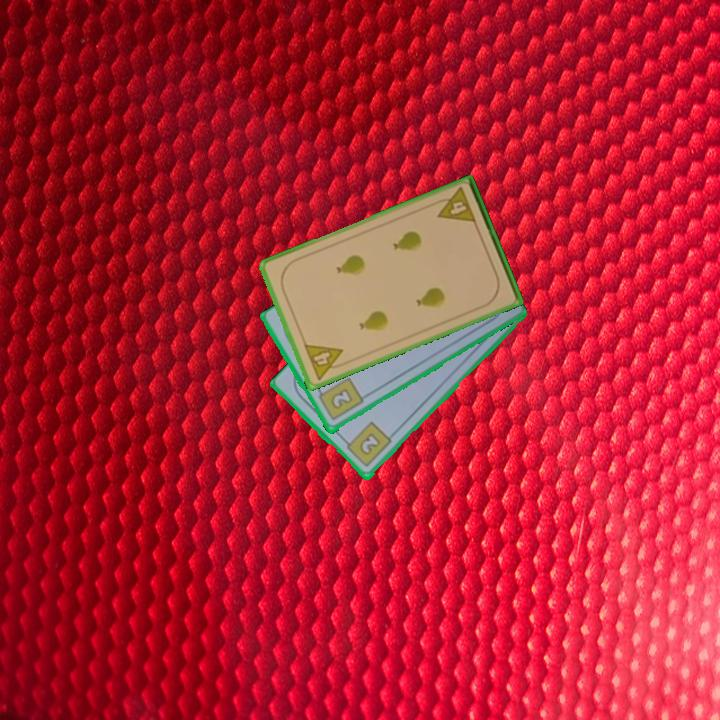2b: (340, 419, 394, 470), (314, 374, 366, 424)
4p: (300, 340, 350, 383), (430, 184, 479, 226)
